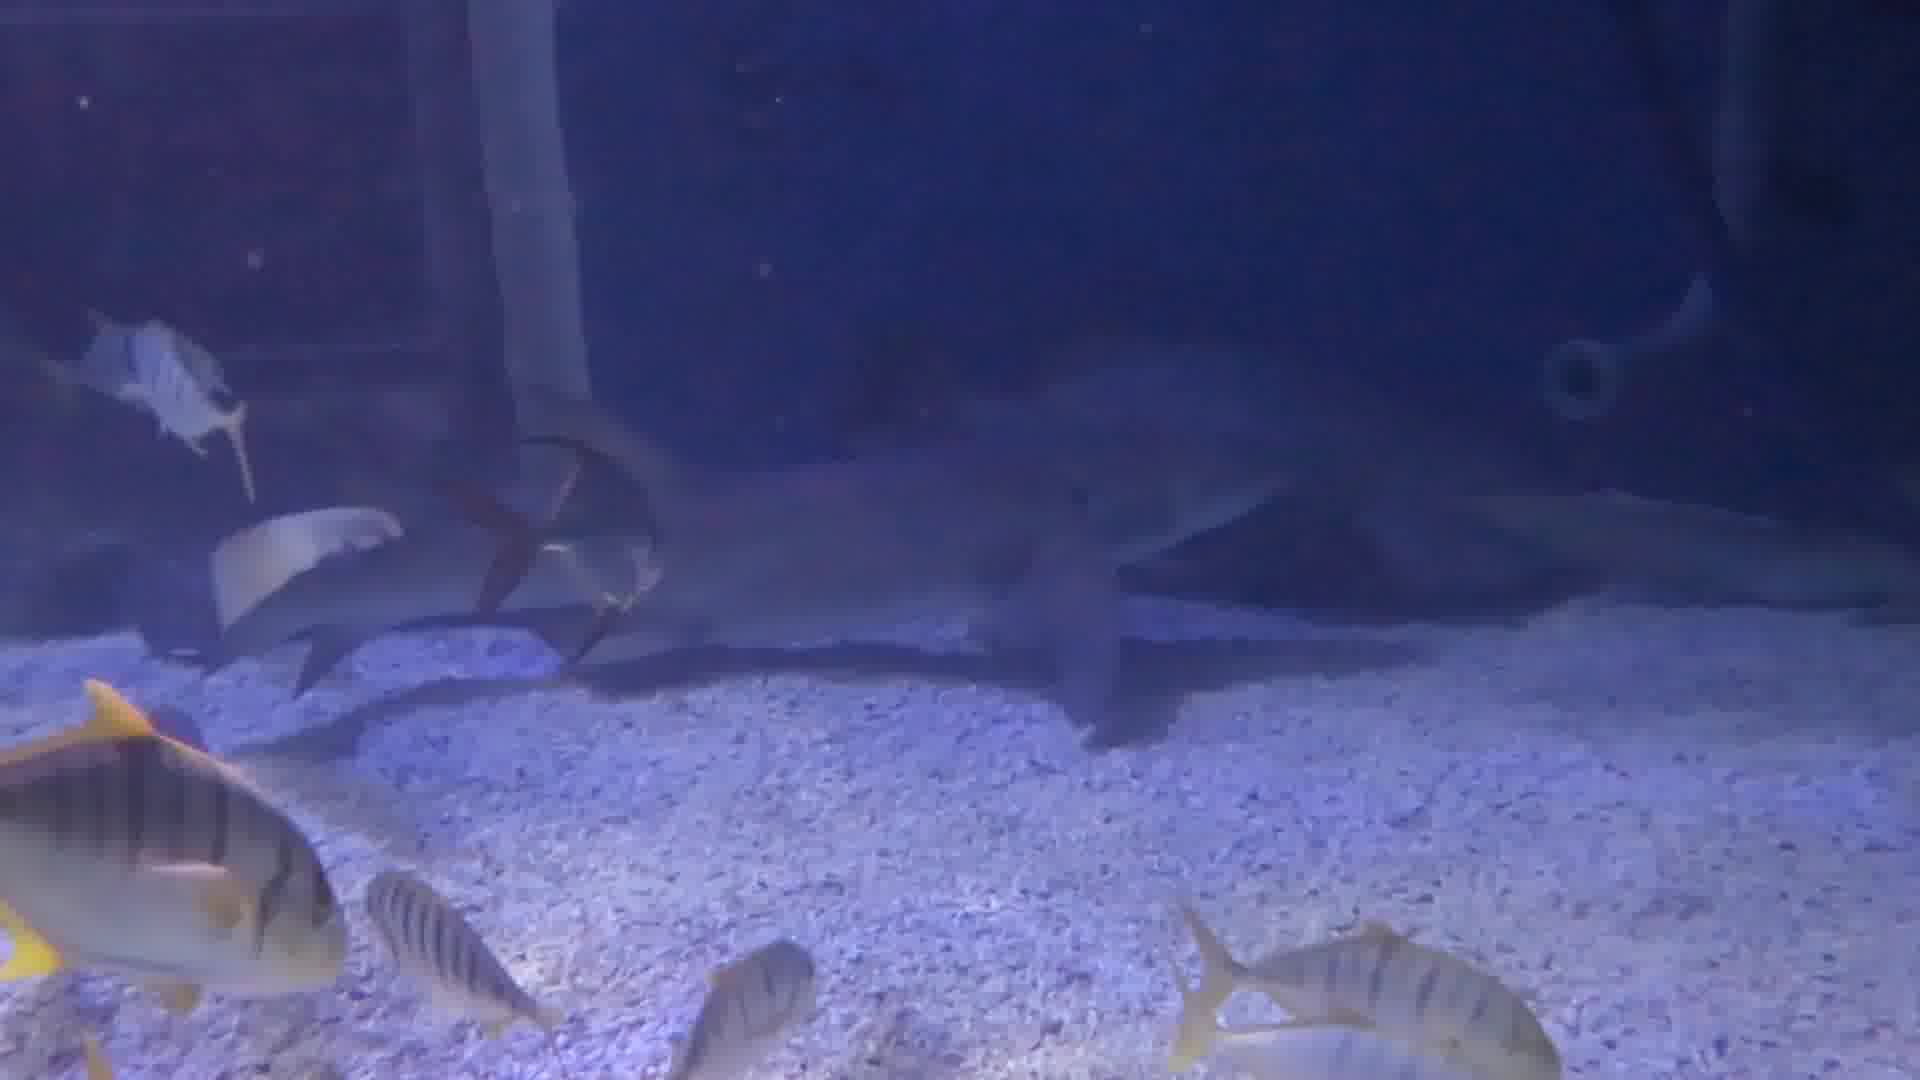Nebrius ferrugineus: (618, 372, 1353, 694)
